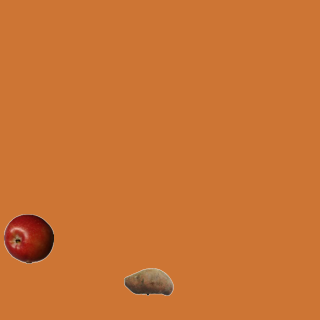Apple Braeburn: (3, 213, 53, 263)
Potato Sweet: (123, 256, 173, 306)
